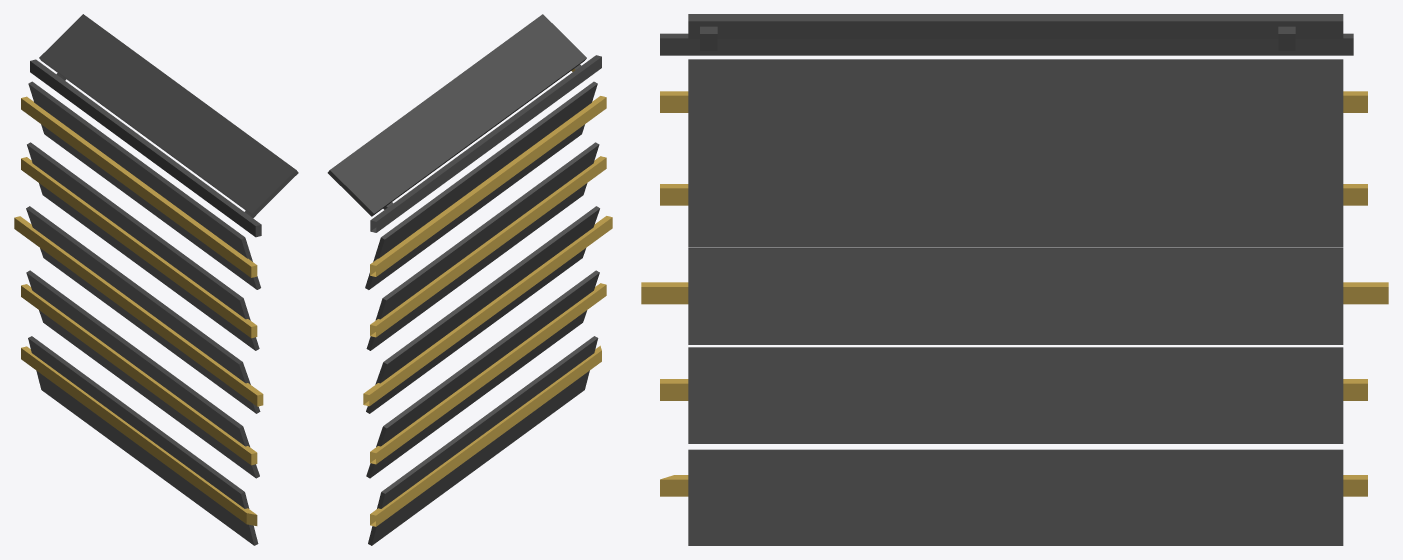
File: Cloture.fbx
3 views of the same model, side by side, from view 1: azimuth 30°, elevation 25°; view 2: azimuth 150°, elevation 25°; view 3: azimuth 270°, elevation 25° (orthographic). The views are drawn at different scales.
Parts seen in each view (by area): view 1: Cloture; view 2: Cloture; view 3: Cloture.
Part boxes in pixels (bbox=[...]): Cloture: bbox=[14, 14, 298, 545]; Cloture: bbox=[327, 14, 612, 545]; Cloture: bbox=[641, 14, 1388, 545].
Size of the model in its own units: 13.22 by 77.31 by 93.13.
